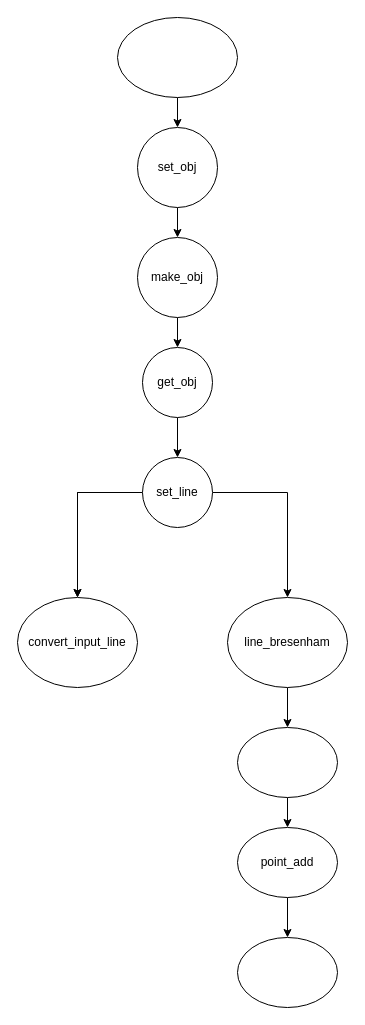
Image size: 365x1025. Some labels were removed from this diagram. The centre of each missing label's shape, as x and y in pixels:
"point_new" goes at point 287,972.
"proc_obj_cmd" goes at point 177,57.
"solve" goes at point 287,762.
